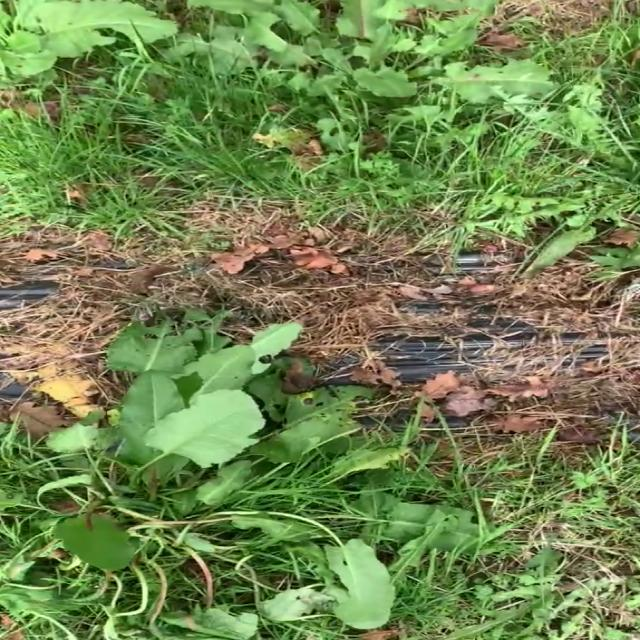organic waste: (0, 301, 517, 640), (155, 0, 612, 170), (0, 0, 181, 110)
